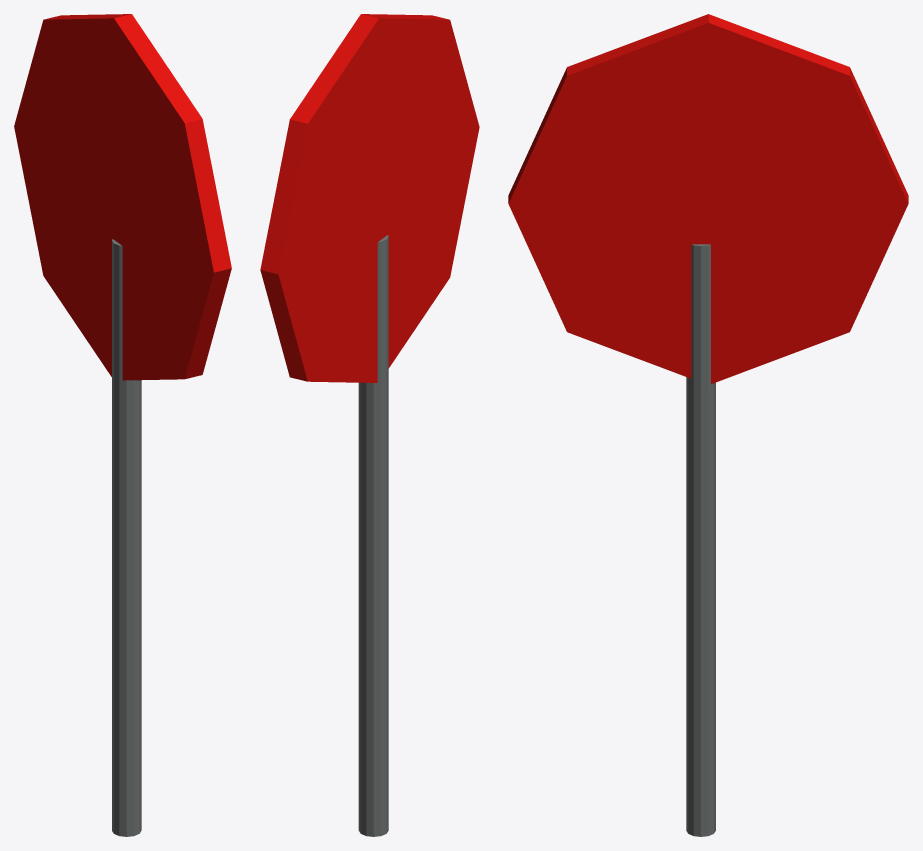
The model's file is stop_sign.obj.
3 renders of one model, left to right at view 1: azimuth 30°, elevation 25°; view 2: azimuth 150°, elevation 25°; view 3: azimuth 270°, elevation 25°, orthographic.
Visible parts, largest first — view 1: stop_sign; view 2: stop_sign; view 3: stop_sign.
Boxes of the visible parts, bbox=[...] form: stop_sign: bbox=[14, 14, 231, 836]; stop_sign: bbox=[260, 14, 479, 836]; stop_sign: bbox=[508, 14, 908, 836].
Size of the model in its own units: 0.2 by 6.05 by 2.7.
